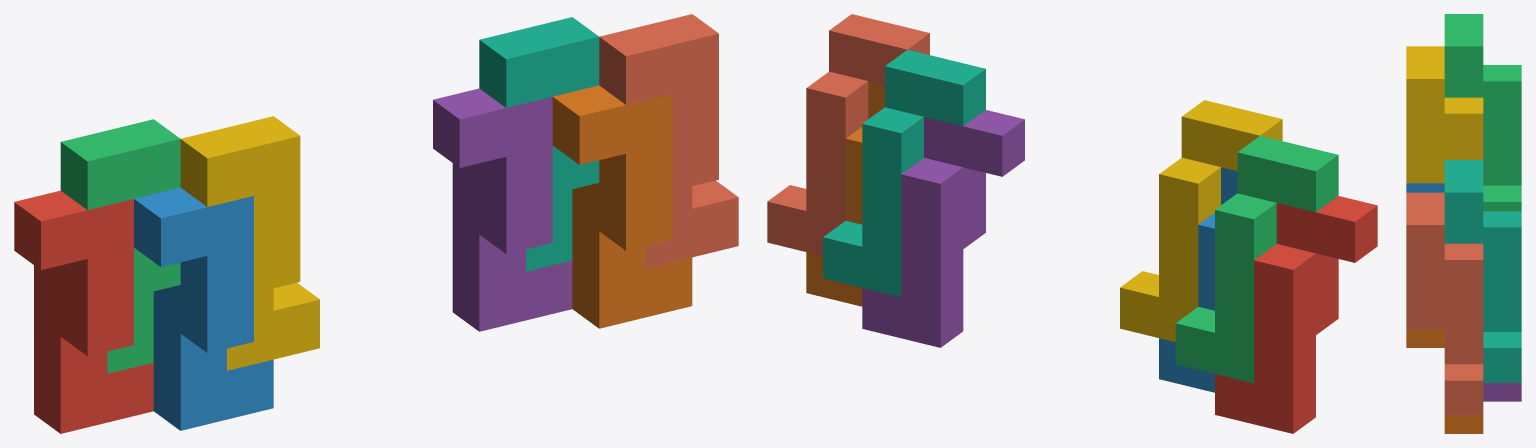
The model's file is tiling.obj.
The picture shows the model from 3 angles, left to right: view 1: azimuth 30°, elevation 25°; view 2: azimuth 150°, elevation 25°; view 3: azimuth 270°, elevation 25°; orthographic projection. The views are drawn at different scales.
Visible parts, largest first — view 1: copy_1_domain_5, copy_1_domain_1, copy_1_domain_6, copy_1_domain_2, copy_1_domain_8, copy_1_domain_4, copy_1_domain_7, copy_1_domain_3; view 2: copy_1_domain_5, copy_1_domain_1, copy_1_domain_7, copy_1_domain_3, copy_1_domain_4, copy_1_domain_8, copy_1_domain_6, copy_1_domain_2; view 3: copy_1_domain_8, copy_1_domain_7, copy_1_domain_3, copy_1_domain_4, copy_1_domain_6, copy_1_domain_5, copy_1_domain_2.
Part boxes in pixels (x1,y1,x2,y2): copy_1_domain_5: (433, 88, 572, 331); copy_1_domain_1: (14, 190, 153, 433); copy_1_domain_6: (552, 85, 692, 328); copy_1_domain_2: (134, 187, 273, 430); copy_1_domain_8: (599, 14, 738, 268); copy_1_domain_4: (180, 116, 319, 370); copy_1_domain_7: (479, 17, 599, 271); copy_1_domain_3: (60, 119, 180, 373); copy_1_domain_5: (862, 110, 1024, 347); copy_1_domain_1: (1215, 196, 1377, 433); copy_1_domain_7: (823, 49, 985, 296); copy_1_domain_3: (1175, 135, 1338, 383); copy_1_domain_4: (1120, 100, 1282, 341); copy_1_domain_8: (767, 14, 929, 255); copy_1_domain_6: (806, 81, 884, 306); copy_1_domain_2: (1159, 167, 1237, 392); copy_1_domain_8: (1406, 192, 1483, 415); copy_1_domain_7: (1444, 160, 1521, 382); copy_1_domain_3: (1444, 14, 1521, 211); copy_1_domain_4: (1406, 46, 1483, 183); copy_1_domain_6: (1406, 329, 1483, 433); copy_1_domain_5: (1483, 383, 1521, 401); copy_1_domain_2: (1406, 183, 1444, 192).
Size of the model in its own units: 15 by 6 by 3.
